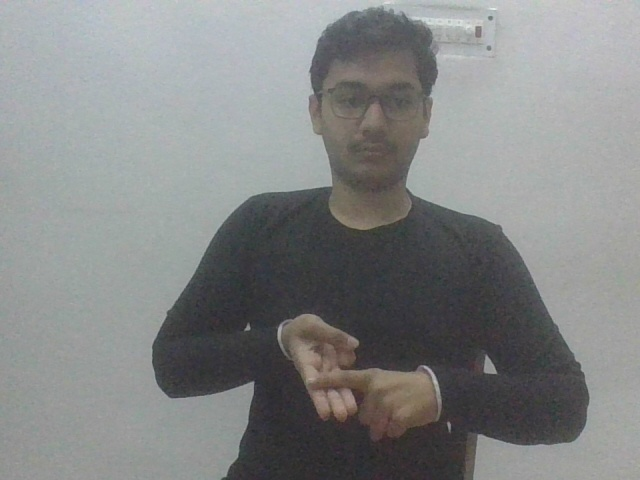E: (277, 310, 447, 446)
